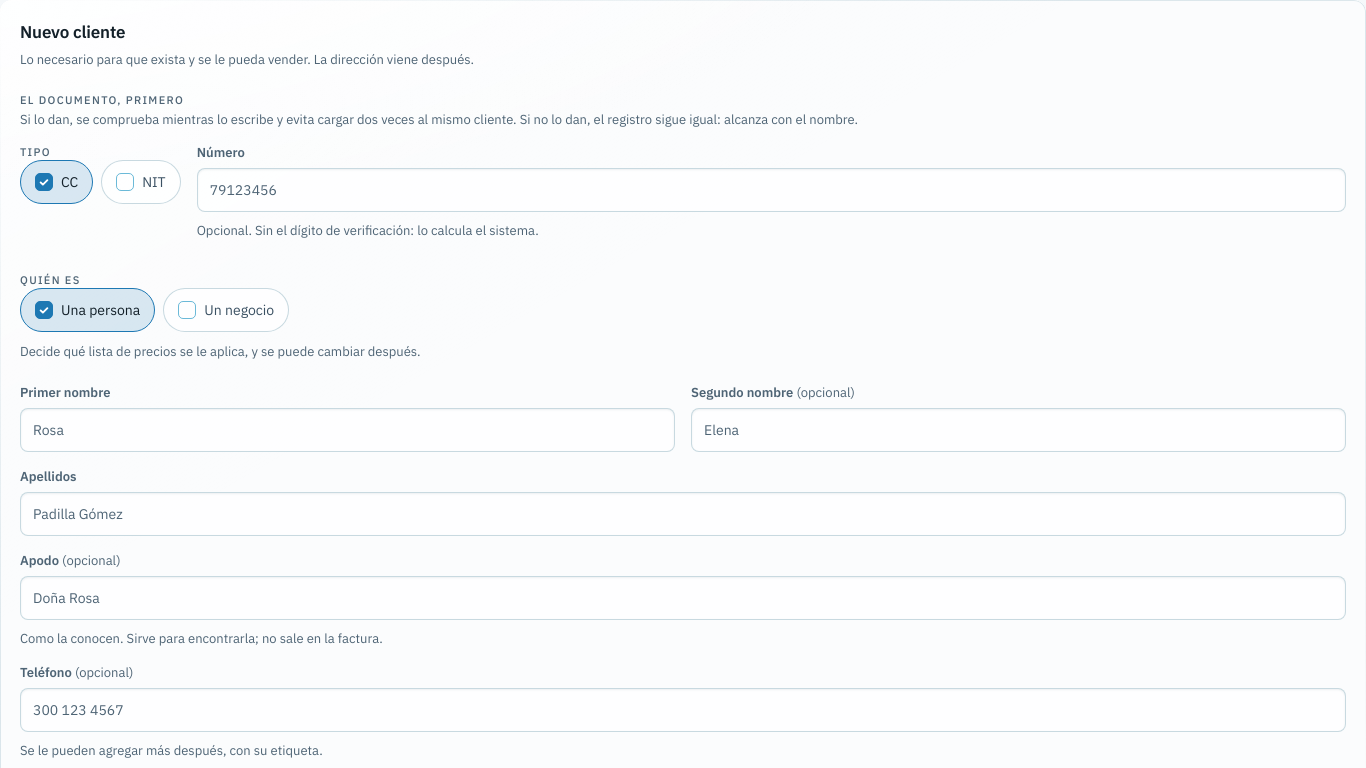
el formulario sigue al tipo de cliente › volver a «Una persona» propone la cédula de nuevo
This screenshot has width=1366, height=768.
Click the radio button labelled "Un negocio".
click(226, 310)  # box [163, 288, 289, 332]
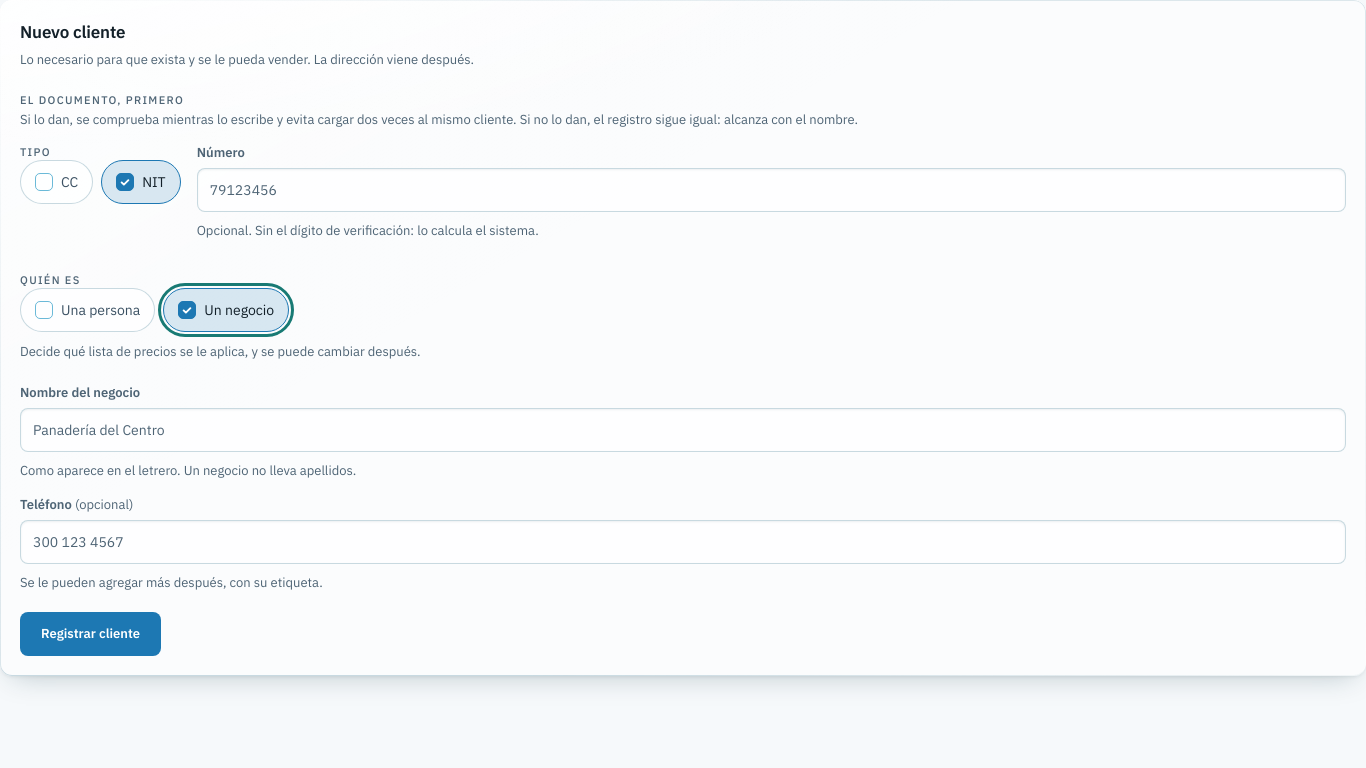
Click the radio button labelled "Una persona".
click(88, 310)  # box [20, 288, 155, 332]
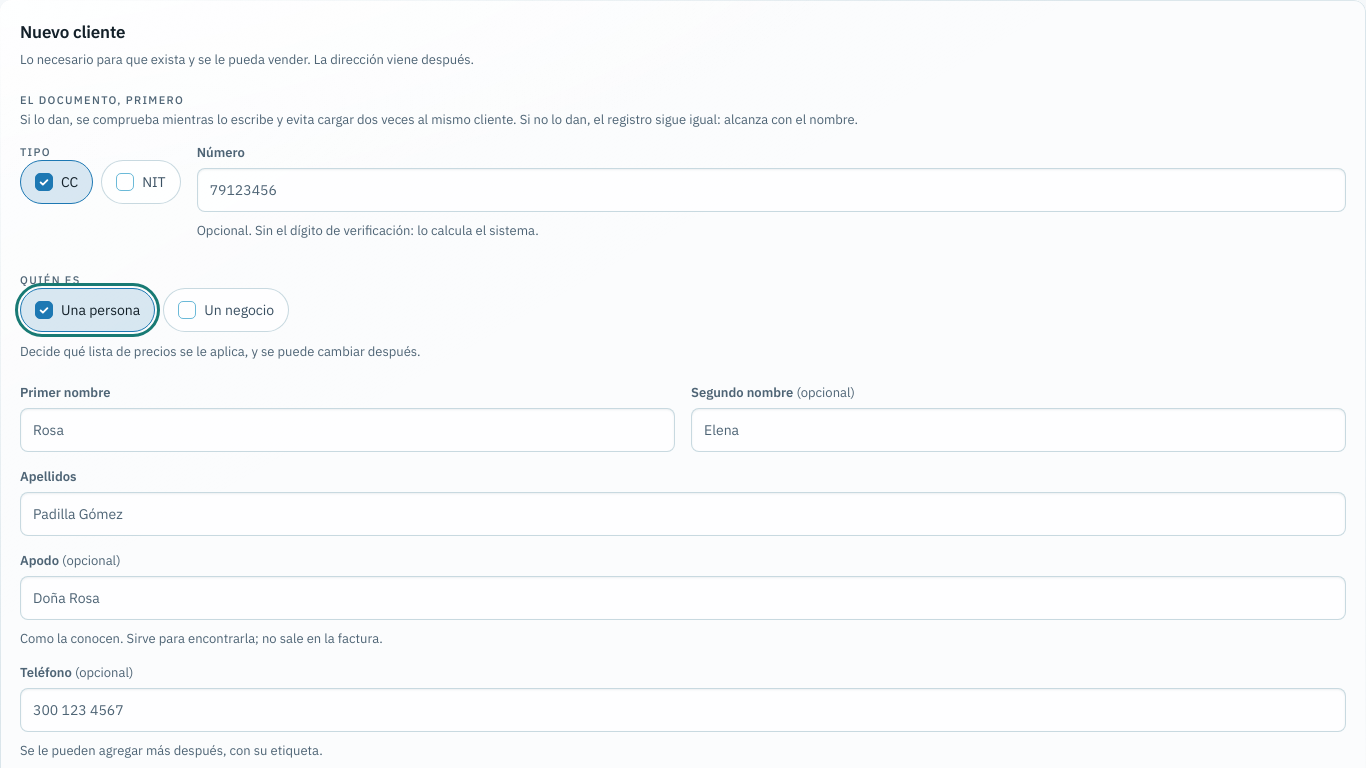
Result: the radio button with aria-label "Cédula de ciudadanía" is checked at [20, 160, 93, 204]
